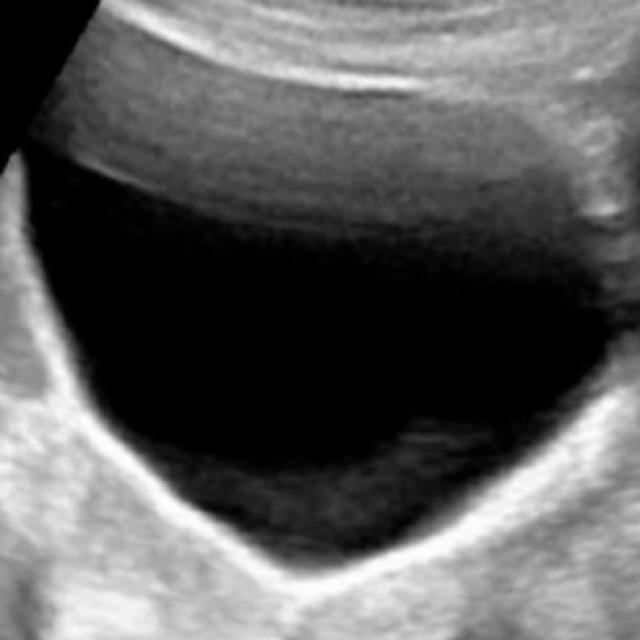bladder: (3, 0, 627, 612)
